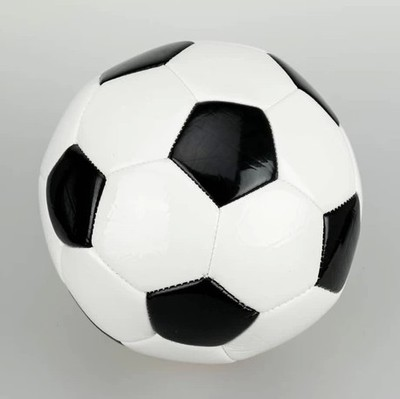football: (51, 38, 362, 360)
